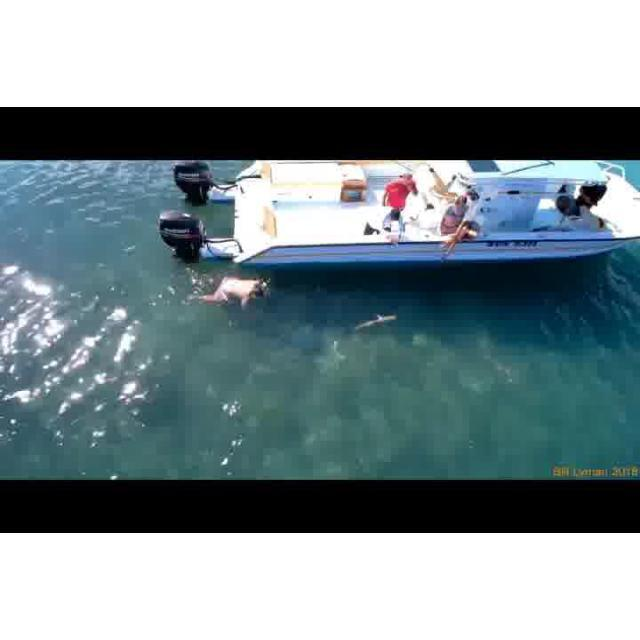human: (188, 275, 277, 316)
